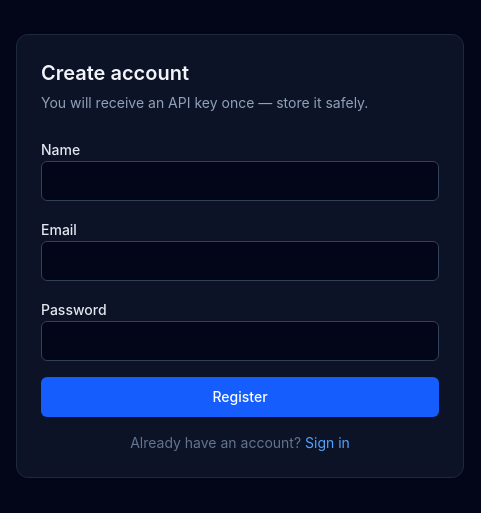
RegisterPage › shows error message when email is already registered
Type "taken@test.com" into the field labelled "Email". click: (240, 261)
box: [41,241,439,281]
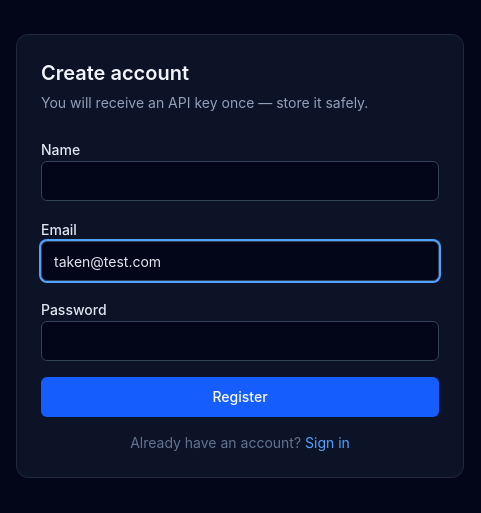
Type "pass123" into the password field labelled "Password". click: (240, 341)
box: [41,321,439,361]
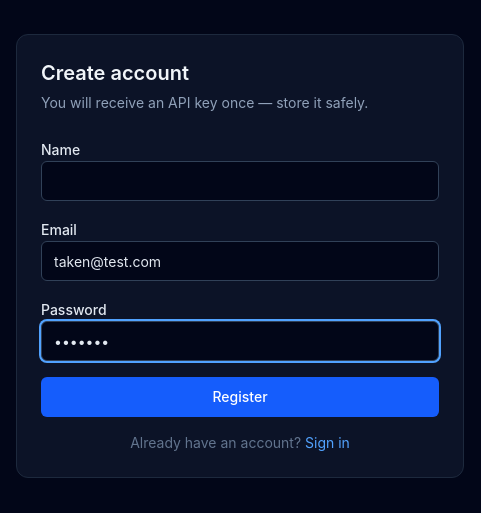
Click the button "Register". click: (240, 397)
box: [41,377,439,417]
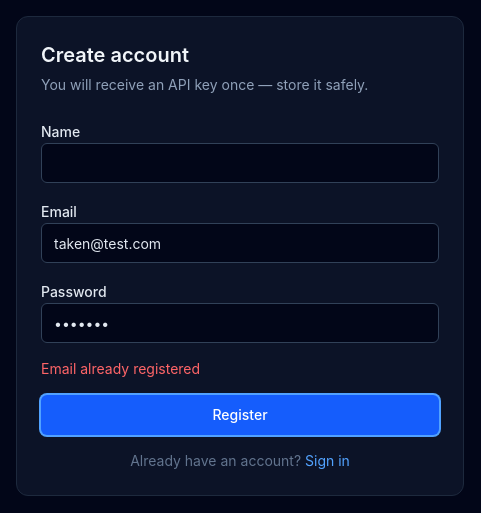
Now the text "Email already registered" is shown, box [41,360,200,377]
